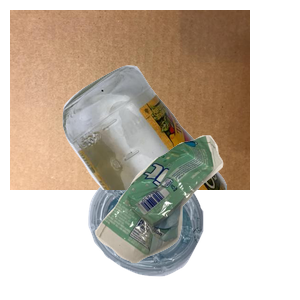cardboard: (10, 10, 250, 190)
glass: (60, 63, 300, 243)
plastic: (86, 163, 282, 300)
trash: (92, 133, 300, 300)
